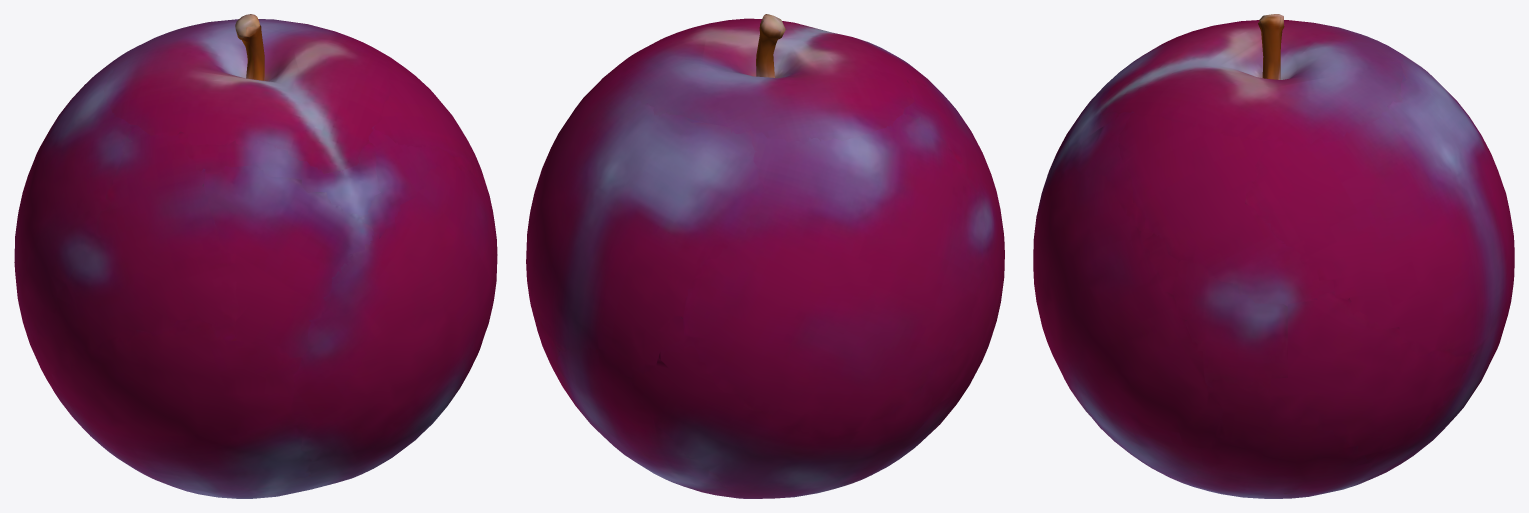
Rendered from plum.glb.
3 views of the same model, side by side, from view 1: azimuth 30°, elevation 25°; view 2: azimuth 150°, elevation 25°; view 3: azimuth 270°, elevation 25° (orthographic).
Parts seen in each view (by area): view 1: material; view 2: material; view 3: material.
Part boxes in pixels (x1=…): material: x1=14, y1=14, x2=497, y2=498; material: x1=526, y1=14, x2=1004, y2=498; material: x1=1033, y1=14, x2=1514, y2=498.
Bounding box in the file's own units: 1.1 × 1.13 × 1.1.
Materials: 1 (1 with a texture image).
